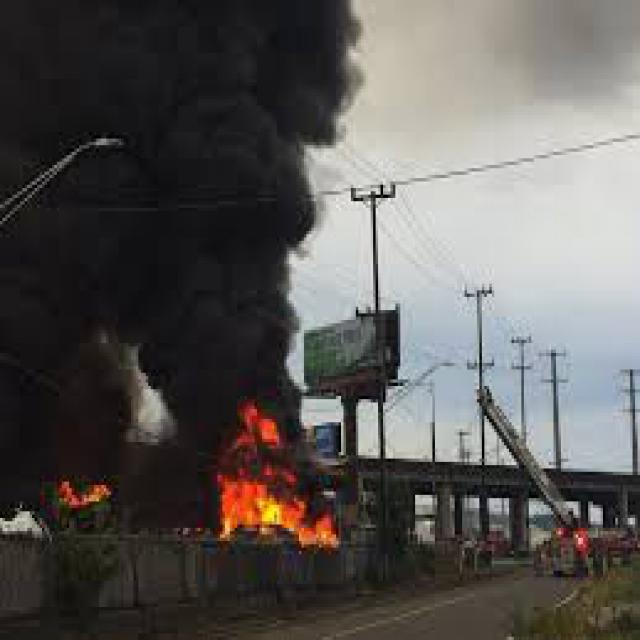Fire: (207, 395, 353, 557), (50, 470, 128, 523)
Smoke: (0, 0, 340, 407)
